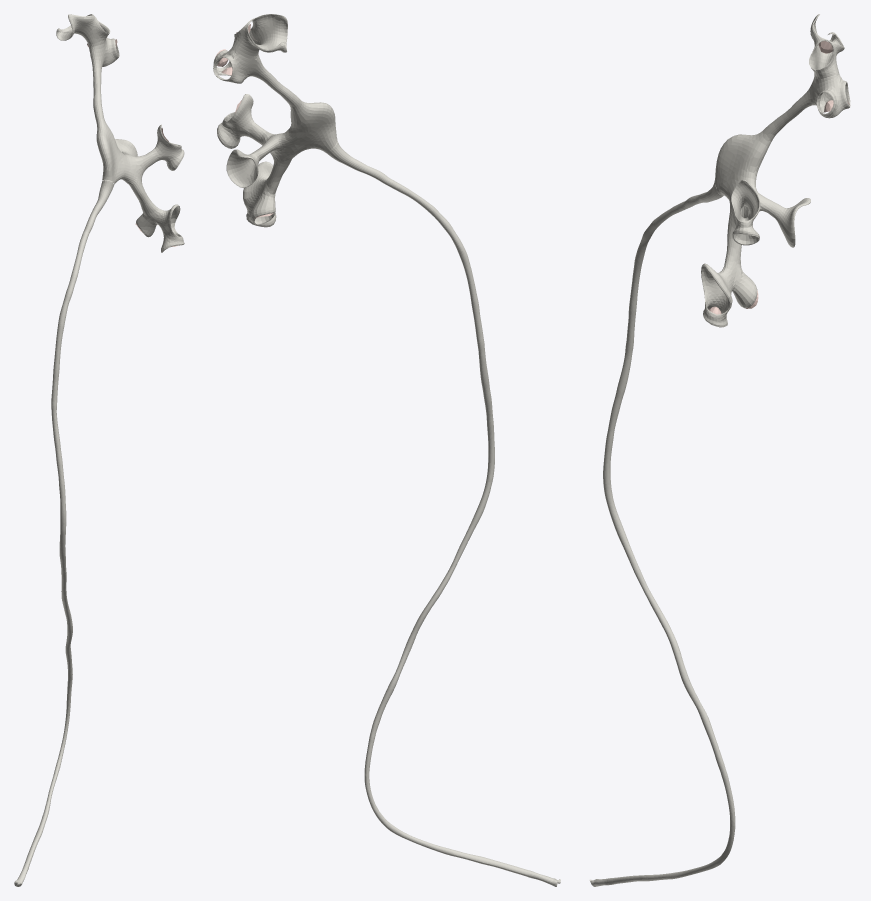
File: VH_F_Ureter_L_0.6.glb
3 views of the same model, side by side, from view 1: azimuth 30°, elevation 25°; view 2: azimuth 150°, elevation 25°; view 3: azimuth 270°, elevation 25° (orthographic). The views are drawn at different scales.
Parts seen in each view (by area): view 1: VH_F_left_ureter, VH_F_renal_pelvis_L, VH_F_minor_calyx_L_a, VH_F_major_calyx_L_a, VH_F_minor_calyx_L_h, VH_F_major_calyx_L_d, VH_F_major_calyx_L_c, VH_F_minor_calyx_L_f; view 2: VH_F_left_ureter, VH_F_renal_pelvis_L, VH_F_minor_calyx_L_a, VH_F_minor_calyx_L_e, VH_F_minor_calyx_L_c, VH_F_minor_calyx_L_f; view 3: VH_F_left_ureter, VH_F_renal_pelvis_L, VH_F_minor_calyx_L_h, VH_F_minor_calyx_L_f, VH_F_major_calyx_L_a, VH_F_minor_calyx_L_a, VH_F_minor_calyx_L_e, VH_F_minor_calyx_L_i, VH_F_minor_calyx_L_d, VH_F_minor_calyx_L_c, VH_F_major_calyx_L_d, VH_F_minor_calyx_L_b (+1 smaller).
Part boxes in pixels (x1,y1,x2,y2): VH_F_left_ureter: (14, 180, 113, 886); VH_F_renal_pelvis_L: (94, 106, 130, 184); VH_F_minor_calyx_L_a: (56, 14, 99, 48); VH_F_major_calyx_L_a: (89, 43, 105, 111); VH_F_minor_calyx_L_h: (151, 204, 183, 242); VH_F_major_calyx_L_d: (129, 172, 156, 216); VH_F_major_calyx_L_c: (128, 148, 159, 181); VH_F_minor_calyx_L_f: (154, 124, 181, 156); VH_F_left_ureter: (326, 141, 560, 886); VH_F_renal_pelvis_L: (281, 94, 337, 158); VH_F_minor_calyx_L_a: (236, 14, 287, 59); VH_F_minor_calyx_L_e: (226, 149, 259, 187); VH_F_minor_calyx_L_c: (213, 48, 256, 83); VH_F_minor_calyx_L_f: (222, 94, 253, 130); VH_F_left_ureter: (589, 182, 735, 886); VH_F_renal_pelvis_L: (714, 122, 777, 214); VH_F_minor_calyx_L_h: (701, 263, 736, 321); VH_F_minor_calyx_L_f: (731, 179, 760, 227); VH_F_major_calyx_L_a: (773, 76, 823, 132); VH_F_minor_calyx_L_a: (810, 14, 844, 69); VH_F_minor_calyx_L_e: (777, 198, 810, 247); VH_F_minor_calyx_L_i: (732, 267, 757, 308); VH_F_minor_calyx_L_d: (816, 74, 838, 117); VH_F_minor_calyx_L_c: (816, 73, 850, 118); VH_F_major_calyx_L_d: (724, 203, 743, 267); VH_F_minor_calyx_L_b: (809, 39, 838, 79).
Bounding box in the file's own units: 0.0825 × 0.266 × 0.0672.
